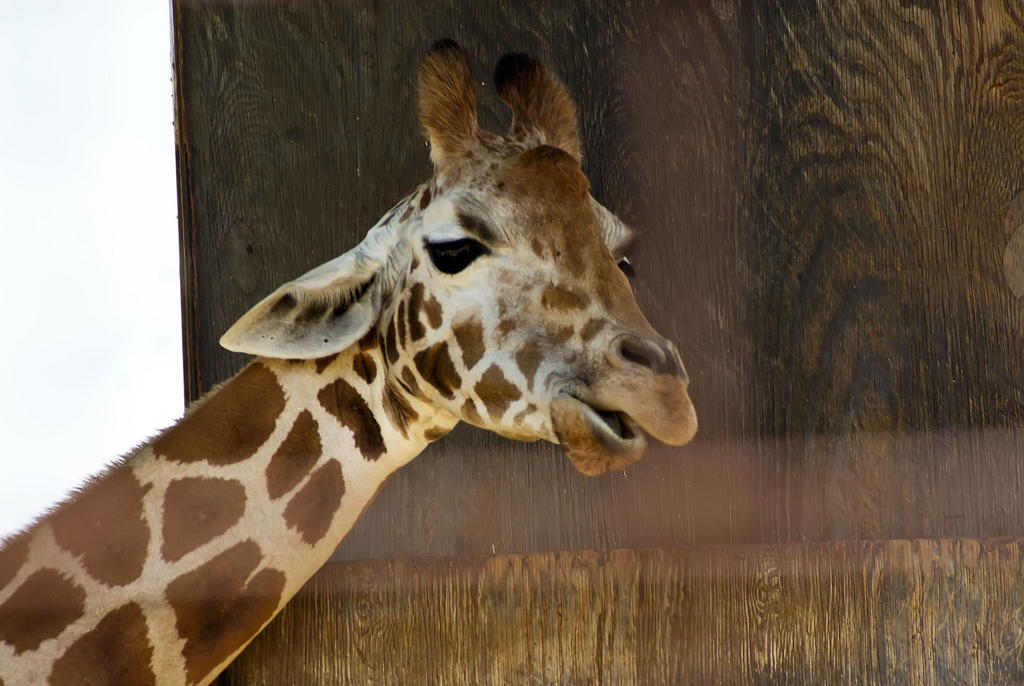giraffe: (1, 30, 740, 642)
